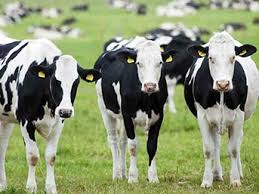waka: (2, 36, 97, 184), (183, 24, 258, 188)
